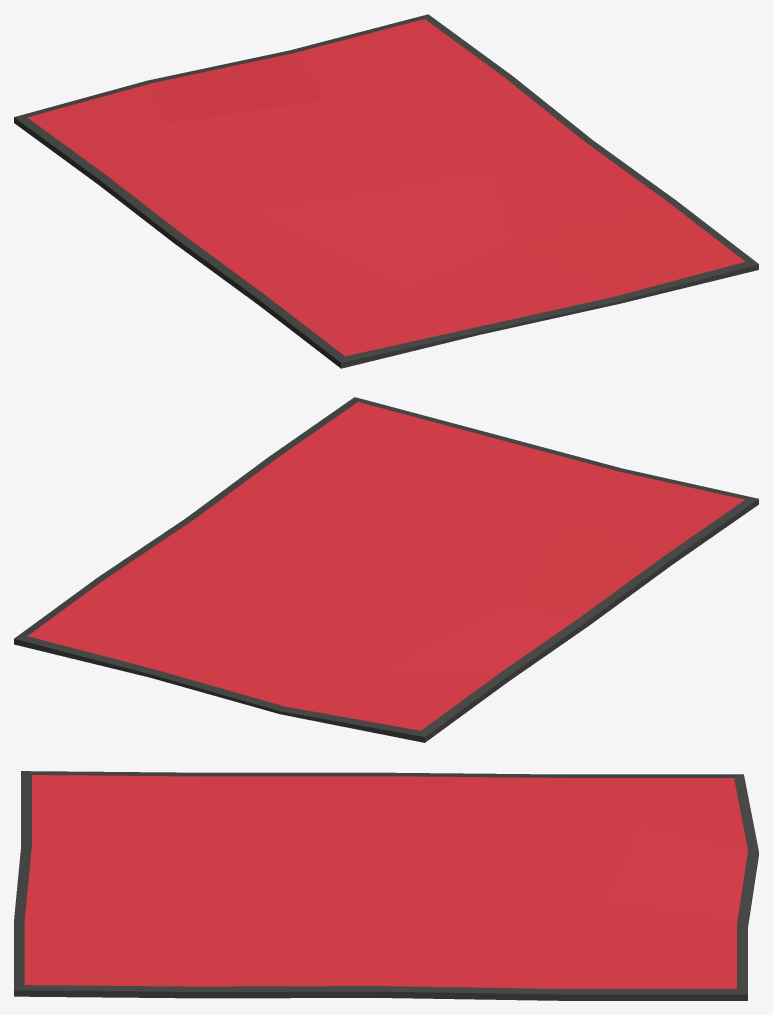
The model's file is Carpet_01.fbx.
3 views of the same model, one above another, from view 1: azimuth 30°, elevation 25°; view 2: azimuth 150°, elevation 25°; view 3: azimuth 270°, elevation 25° (orthographic). The views are drawn at different scales.
Parts seen in each view (by area): view 1: Carpet_01; view 2: Carpet_01; view 3: Carpet_01.
Part boxes in pixels (x1=…): Carpet_01: x1=14, y1=14, x2=758, y2=368; Carpet_01: x1=14, y1=397, x2=758, y2=742; Carpet_01: x1=14, y1=771, x2=758, y2=1000.
Size of the model in its own units: 219 by 4.81 by 309.
